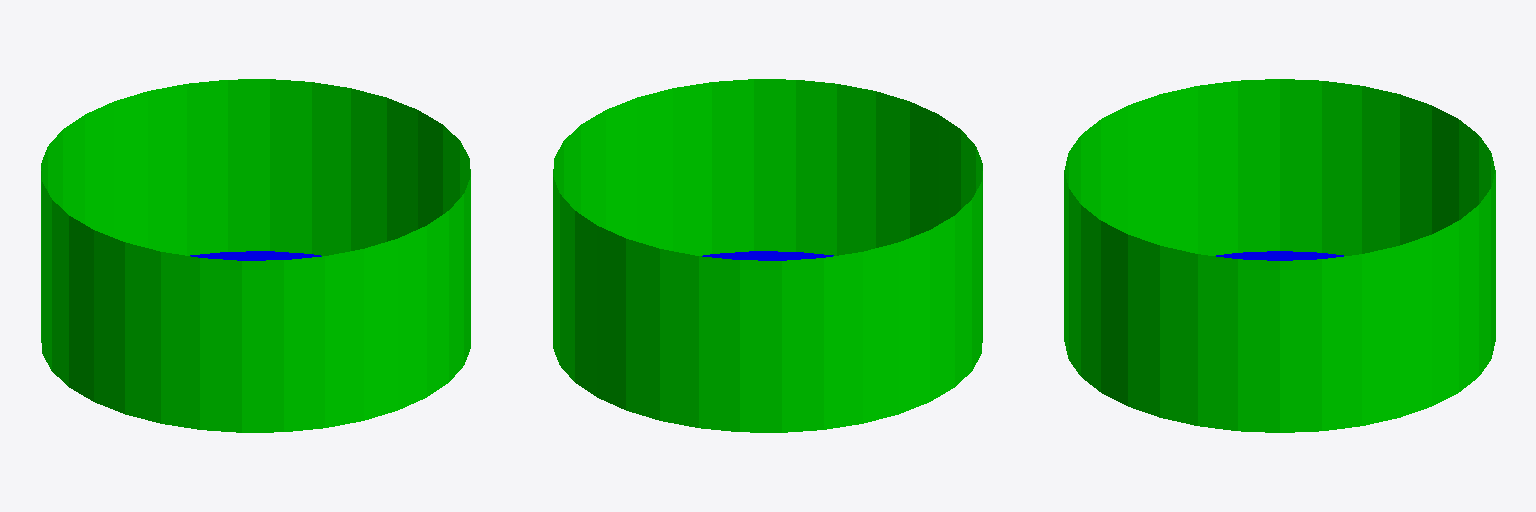
File: Underground.obj
3 views of the same model, side by side, from view 1: azimuth 30°, elevation 25°; view 2: azimuth 150°, elevation 25°; view 3: azimuth 270°, elevation 25° (orthographic).
Parts seen in each view (by area): view 1: Circle.002; view 2: Circle.002; view 3: Circle.002.
Boxes of the visible parts, box(x1,y1,x2,y2) form: Circle.002: box(41, 79, 470, 432); Circle.002: box(553, 79, 982, 432); Circle.002: box(1064, 79, 1495, 432).
Size of the model in its own units: 8 by 3.52 by 8.